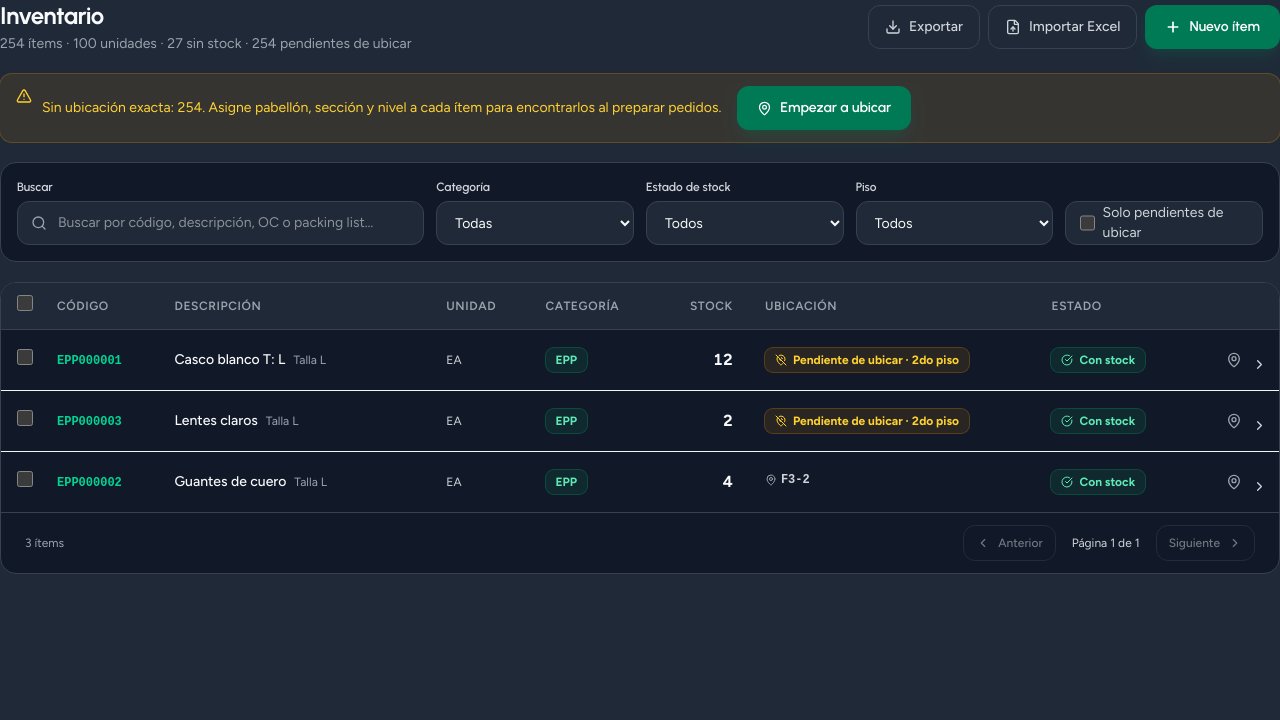
Test: InventarioPage — asignar por fila y alta de ítems › abrir la asignación desde la fila no navega al kardex del ítem
Expected: the link "EPP000001" is shown, [57,354,122,368]
What coordinates should you click on to do the following:
click the button named "Asignar ubicación a EPP000001"
I would click on:
 (1234, 360)
Its box is [1216,342,1252,378].
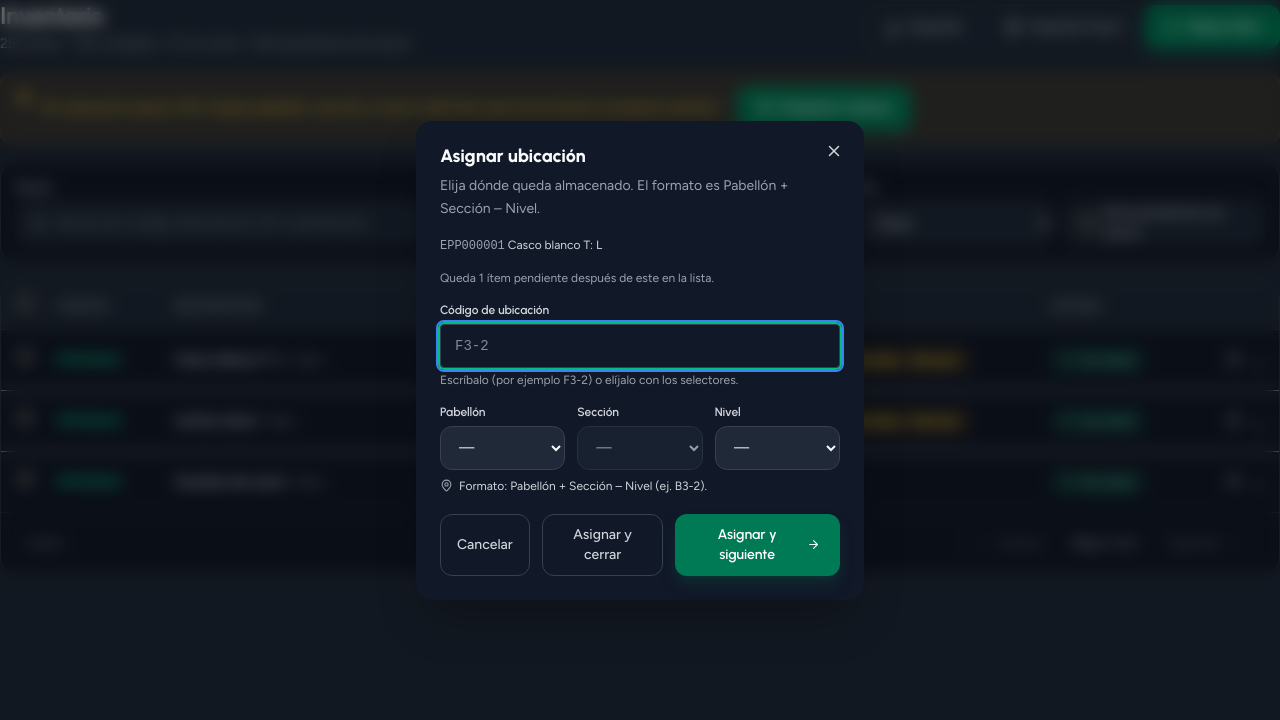
Now the dialog "Asignar ubicación" is shown, box [416,120,864,600]
